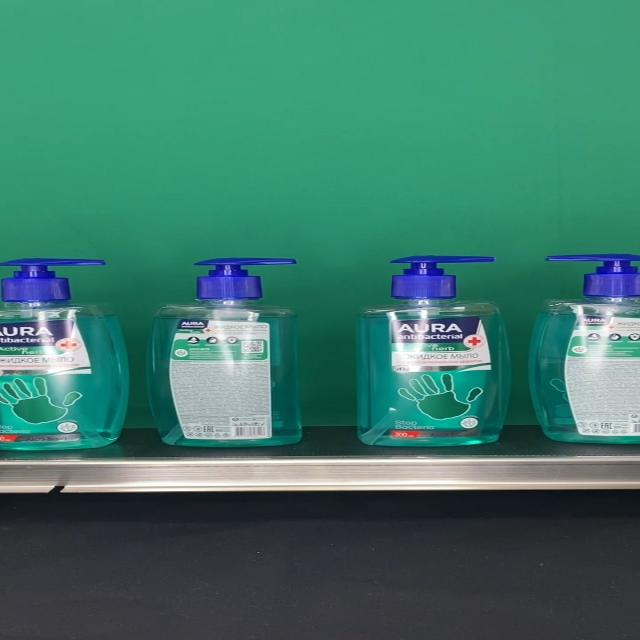Bottle: (354, 256, 512, 446), (148, 258, 303, 447), (0, 258, 129, 450)
Cap: (388, 256, 496, 299), (2, 258, 107, 302), (195, 258, 298, 300)
